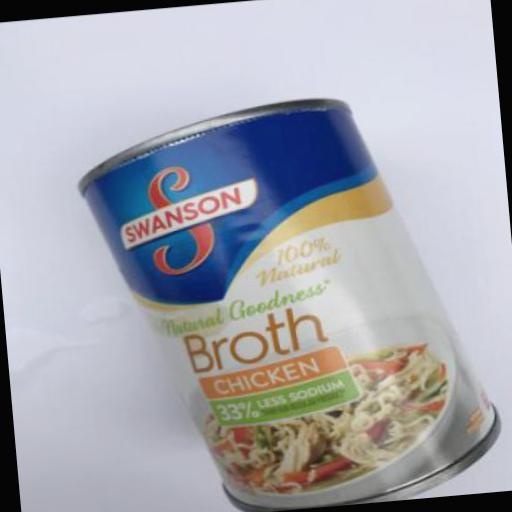metal: (76, 81, 508, 512)
